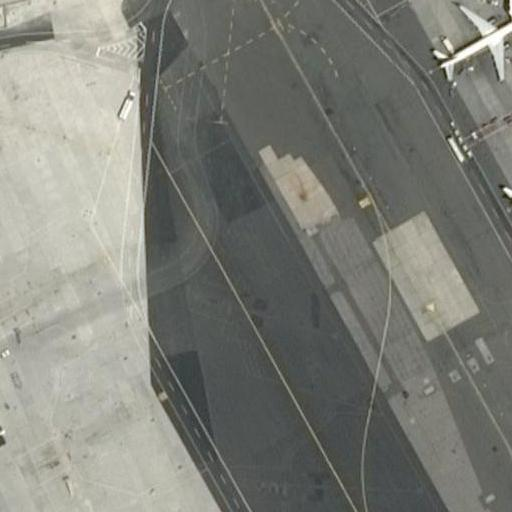Aircraft: (422, 0, 512, 81), (491, 123, 512, 235)
